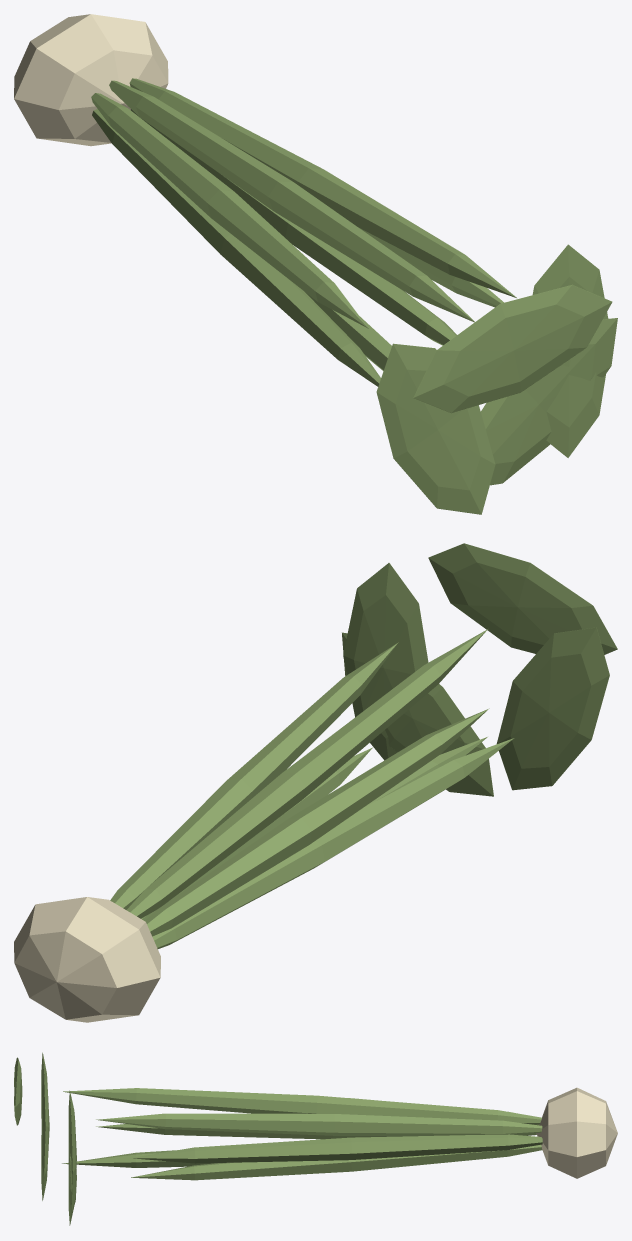
File: celery.glb
3 views of the same model, one above another, from view 1: azimuth 30°, elevation 25°; view 2: azimuth 150°, elevation 25°; view 3: azimuth 270°, elevation 25° (orthographic). The views are drawn at different scales.
Parts seen in each view (by area): view 1: celery; view 2: celery; view 3: celery.
Boxes of the visible parts, x1=… form: celery: x1=14, y1=14, x2=617, y2=514; celery: x1=14, y1=543, x2=617, y2=1022; celery: x1=14, y1=1052, x2=617, y2=1225.
Bounding box in the file's own units: 0.0849 × 0.0709 × 0.2659.
